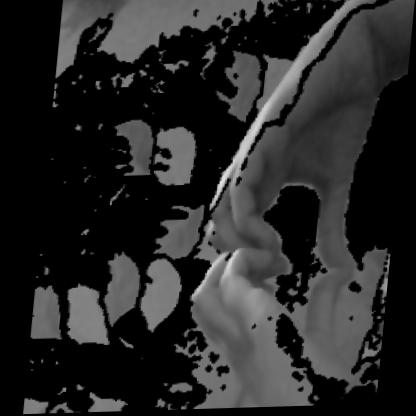heart: (181, 101, 380, 374)
